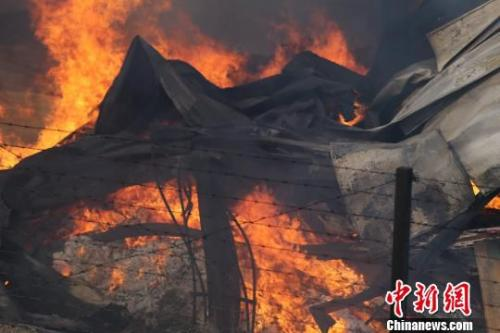fire: (27, 10, 364, 331)
